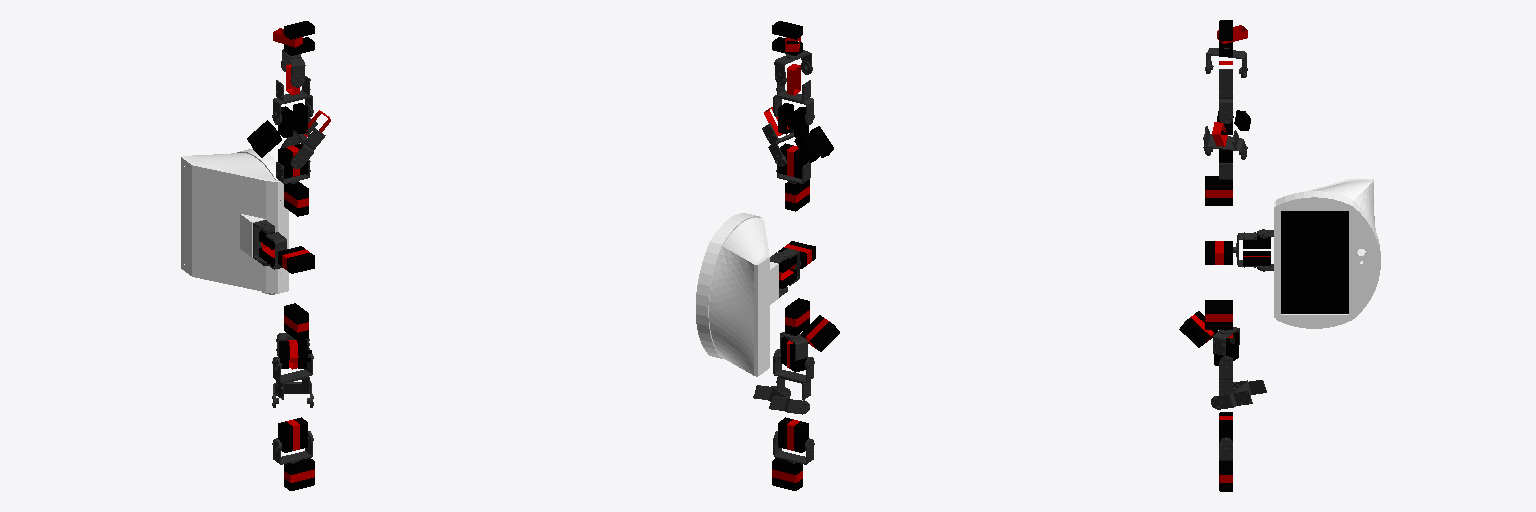
The robot description file, URDF, robot "bobot":
<robot name="bobot" version="1.0">
  <joint name="head_steel_link_joint" type="revolute">
    <limit lower="-0.80000" upper="0.80000" effort="0.00000" velocity="0.00000"/>
    <origin rpy="0.00000 0.00000 0.00000" xyz="0.00000 1.90250 -0.00500"/>
    <parent link="neck_plast_link"/>
    <child link="head_steel_link"/>
    <axis xyz="0.00000 0.00000 1.00000"/>
  </joint>
  <joint name="leftArm1_link_joint" type="revolute">
    <limit lower="-3.14000" upper="3.14000" effort="0.00000" velocity="0.00000"/>
    <origin rpy="0.00000 0.00000 0.00000" xyz="0.00000 17.49999 6.17249"/>
    <parent link="body0_plast_white_link"/>
    <child link="rightArm1_steel_link"/>
    <axis xyz="0.00000 0.00000 1.00000"/>
  </joint>
  <joint name="leftArm1_plast_link_joint" type="revolute">
    <limit lower="-3.14000" upper="3.14000" effort="0.00000" velocity="0.00000"/>
    <origin rpy="0.00000 0.00000 0.00000" xyz="-0.00000 17.49999 -6.17249"/>
    <parent link="body0_plast_white_link"/>
    <child link="leftArm1_plast_link"/>
    <axis xyz="0.00000 0.00000 1.00000"/>
  </joint>
  <joint name="leftArm2_plast_link_joint" type="revolute">
    <limit lower="-2.00000" upper="2.00000" effort="0.00000" velocity="0.00000"/>
    <origin rpy="0.00000 0.00000 0.00000" xyz="-0.00500 -0.00000 -1.87501"/>
    <parent link="leftArm1_plast_link"/>
    <child link="leftArm2_plast_link"/>
    <axis xyz="1.00000 0.00000 0.00000"/>
  </joint>
  <joint name="leftArm3_plast_link_joint" type="revolute">
    <limit lower="-2.00000" upper="2.00000" effort="0.00000" velocity="0.00000"/>
    <origin rpy="0.00000 0.00000 0.00000" xyz="0.00000 0.00000 -3.20000"/>
    <parent link="leftArm2_plast_link"/>
    <child link="leftArm3_plast_link"/>
    <axis xyz="1.00000 0.00000 0.00000"/>
  </joint>
  <joint name="leftArm4_link_joint" type="revolute">
    <limit lower="-2.00000" upper="2.00000" effort="0.00000" velocity="0.00000"/>
    <origin rpy="0.00000 0.00000 0.00000" xyz="-0.00000 -0.00000 -3.20000"/>
    <parent link="leftArm3_plast_link"/>
    <child link="leftArm4_link"/>
    <axis xyz="1.00000 0.00000 0.00000"/>
  </joint>
  <joint name="leftArm5_plast_link_joint" type="revolute">
    <limit lower="-3.14000" upper="3.14000" effort="0.00000" velocity="0.00000"/>
    <origin rpy="0.00000 0.00000 0.00000" xyz="0.00500 -0.00000 -1.32502"/>
    <parent link="leftArm4_link"/>
    <child link="leftArm5_plast_link"/>
    <axis xyz="0.00000 0.00000 1.00000"/>
  </joint>
  <joint name="neck_plast_link_joint" type="revolute">
    <limit lower="-1.00000" upper="1.00000" effort="0.00000" velocity="0.00000"/>
    <origin rpy="0.00000 0.00000 0.00000" xyz="-0.50000 18.26999 -0.00000"/>
    <parent link="body0_plast_white_link"/>
    <child link="neck_plast_link"/>
    <axis xyz="0.00000 1.00000 0.00000"/>
  </joint>
  <joint name="rightArm2_link_joint" type="revolute">
    <limit lower="-2.00000" upper="2.00000" effort="0.00000" velocity="0.00000"/>
    <origin rpy="0.00000 0.00000 0.00000" xyz="-0.00500 0.00000 1.87501"/>
    <parent link="rightArm1_steel_link"/>
    <child link="rightArm2_steel_link"/>
    <axis xyz="1.00000 0.00000 0.00000"/>
  </joint>
  <joint name="rightArm3_link_joint" type="revolute">
    <limit lower="-2.00000" upper="2.00000" effort="0.00000" velocity="0.00000"/>
    <origin rpy="0.00000 0.00000 0.00000" xyz="-0.00000 0.00000 3.20000"/>
    <parent link="rightArm2_steel_link"/>
    <child link="rightArm3_steel_link"/>
    <axis xyz="1.00000 0.00000 0.00000"/>
  </joint>
  <joint name="rightArm4_link_joint" type="revolute">
    <limit lower="-2.00000" upper="2.00000" effort="0.00000" velocity="0.00000"/>
    <origin rpy="0.00000 0.00000 0.00000" xyz="-0.00000 0.00000 3.19999"/>
    <parent link="rightArm3_steel_link"/>
    <child link="rightArm4_link"/>
    <axis xyz="1.00000 0.00000 0.00000"/>
  </joint>
  <joint name="rightArm5_plast_link_joint" type="revolute">
    <limit lower="-3.14000" upper="3.14000" effort="0.00000" velocity="0.00000"/>
    <origin rpy="0.00000 0.00000 0.00000" xyz="0.00500 0.00000 1.32502"/>
    <parent link="rightArm4_link"/>
    <child link="rightArm5_red_link"/>
    <axis xyz="0.00000 0.00000 1.00000"/>
  </joint>
  <link name="body0_plast_white_link">
    <visual name="body0_plast_white">
      <origin rpy="0.00000 0.00000 0.00000" xyz="0.00000 0.00000 0.00000"/>
      <material name="white"/>
      <geometry>
        <mesh filename="../meshes/stl/body_white.stl" scale="1.00000 1.00000 1.00000"/>
      </geometry>
    </visual>
    <visual name="body_plast">
      <origin rpy="0.00000 0.00000 0.00000" xyz="0.00000 0.00000 0.00000"/>
      <material name="black"/>
      <geometry>
        <mesh filename="../meshes/stl/body_black.stl" scale="1.00000 1.00000 1.00000"/>
      </geometry>
    </visual>
    <visual name="body_plast_red">
      <origin rpy="0.00000 0.00000 0.00000" xyz="0.00000 0.00000 0.00000"/>
      <material name="red"/>
      <geometry>
        <mesh filename="../meshes/stl/body_red.stl" scale="1.00000 1.00000 1.00000"/>
      </geometry>
    </visual>
  </link>
  <link name="head_steel_link">
    <collision name="head_collision">
      <origin rpy="0.00000 0.00000 0.00000" xyz="0.00000 4.61031 0.00500"/>
      <geometry>
        <box size="5.33500 8.36396 11.24074"/>
      </geometry>
    </collision>
    <visual name="head_plast">
      <origin rpy="0.00000 0.00000 0.00000" xyz="0.00000 1.32502 0.00500"/>
      <material name="whiteHead"/>
      <geometry>
        <mesh filename="../meshes/stl/head_white.stl" scale="1.00000 1.00000 1.00000"/>
      </geometry>
    </visual>
    <visual name="head_screen">
      <origin rpy="0.00000 0.00000 0.00000" xyz="0.00000 1.32502 0.00500"/>
      <material name="black"/>
      <geometry>
        <mesh filename="../meshes/stl/head_black.stl" scale="1.00000 1.00000 1.00000"/>
      </geometry>
    </visual>
    <visual name="head_steel">
      <origin rpy="0.00000 0.00000 0.00000" xyz="0.00000 0.00000 0.00000"/>
      <material name="steel"/>
      <geometry>
        <mesh filename="../meshes/stl/head_steel.stl" scale="1.00000 1.00000 1.00000"/>
      </geometry>
    </visual>
  </link>
  <link name="leftArm1_plast_link">
    <visual name="leftArm1_plast">
      <origin rpy="0.00000 0.00000 0.00000" xyz="0.00000 0.00000 0.00000"/>
      <material name="black"/>
      <geometry>
        <mesh filename="../meshes/stl/LAP1.stl" scale="1.00000 1.00000 1.00000"/>
      </geometry>
    </visual>
    <visual name="leftArm1_red">
      <origin rpy="0.00000 0.00000 0.00000" xyz="0.00000 -0.00000 0.00000"/>
      <material name="red"/>
      <geometry>
        <mesh filename="../meshes/stl/LAR1.stl" scale="1.00000 1.00000 1.00000"/>
      </geometry>
    </visual>
    <visual name="leftArm1_steel">
      <origin rpy="0.00000 0.00000 0.00000" xyz="0.00000 -0.00000 0.00000"/>
      <material name="steel"/>
      <geometry>
        <mesh filename="../meshes/stl/LAS1.stl" scale="1.00000 1.00000 1.00000"/>
      </geometry>
    </visual>
  </link>
  <link name="leftArm2_plast_link">
    <visual name="leftArm2_plast">
      <origin rpy="0.00000 0.00000 0.00000" xyz="0.00000 0.00000 0.00000"/>
      <material name="black"/>
      <geometry>
        <mesh filename="../meshes/stl/LAP2.stl" scale="1.00000 1.00000 1.00000"/>
      </geometry>
    </visual>
    <visual name="leftArm2_red">
      <origin rpy="0.00000 0.00000 0.00000" xyz="0.00000 0.00000 0.00000"/>
      <material name="red"/>
      <geometry>
        <mesh filename="../meshes/stl/LAR2.stl" scale="1.00000 1.00000 1.00000"/>
      </geometry>
    </visual>
    <visual name="leftArm2_steel">
      <origin rpy="0.00000 0.00000 0.00000" xyz="0.00000 0.00000 0.00000"/>
      <material name="steel"/>
      <geometry>
        <mesh filename="../meshes/stl/LAS2.stl" scale="1.00000 1.00000 1.00000"/>
      </geometry>
    </visual>
  </link>
  <link name="leftArm3_plast_link">
    <visual name="leftArm3_plast">
      <origin rpy="0.00000 0.00000 0.00000" xyz="-0.00000 0.00000 0.00000"/>
      <material name="black"/>
      <geometry>
        <mesh filename="../meshes/stl/LAP3.stl" scale="1.00000 1.00000 1.00000"/>
      </geometry>
    </visual>
    <visual name="leftArm3_red">
      <origin rpy="0.00000 0.00000 0.00000" xyz="-0.00000 -0.00000 0.00000"/>
      <material name="red"/>
      <geometry>
        <mesh filename="../meshes/stl/LAR3.stl" scale="1.00000 1.00000 1.00000"/>
      </geometry>
    </visual>
    <visual name="leftArm3_steel">
      <origin rpy="0.00000 0.00000 0.00000" xyz="-0.00000 -0.00000 0.00000"/>
      <material name="steel"/>
      <geometry>
        <mesh filename="../meshes/stl/LAS3.stl" scale="1.00000 1.00000 1.00000"/>
      </geometry>
    </visual>
  </link>
  <link name="leftArm4_link">
    <visual name="leftArm4">
      <origin rpy="0.00000 0.00000 0.00000" xyz="0.00000 0.00000 0.00000"/>
      <material name="steel"/>
      <geometry>
        <mesh filename="../meshes/stl/LAS4.stl" scale="1.00000 1.00000 1.00000"/>
      </geometry>
    </visual>
  </link>
  <link name="leftArm5_plast_link">
    <collision name="leftArm5_plast_collision">
      <origin rpy="0.00000 0.00000 0.00000" xyz="0.50000 0.00000 -1.16249"/>
      <geometry>
        <box size="2.00002 1.00000 2.27000"/>
      </geometry>
    </collision>
    <visual name="leftArm5_plast">
      <origin rpy="0.00000 0.00000 0.00000" xyz="-0.00000 0.00000 0.00000"/>
      <material name="blackLa"/>
      <geometry>
        <mesh filename="../meshes/stl/LAP5.stl" scale="1.00000 1.00000 1.00000"/>
      </geometry>
    </visual>
    <visual name="leftArm5_red">
      <origin rpy="0.00000 0.00000 0.00000" xyz="-0.00000 0.00000 0.00000"/>
      <material name="red"/>
      <geometry>
        <mesh filename="../meshes/stl/LAR5.stl" scale="1.00000 1.00000 1.00000"/>
      </geometry>
    </visual>
  </link>
  <link name="neck_plast_link">
    <visual name="neck_plast">
      <origin rpy="0.00000 0.00000 0.00000" xyz="0.00000 0.00000 0.00000"/>
      <material name="black"/>
      <geometry>
        <mesh filename="../meshes/stl/NP.stl" scale="1.00000 1.00000 1.00000"/>
      </geometry>
    </visual>
    <visual name="neck_red">
      <origin rpy="0.00000 0.00000 0.00000" xyz="0.00000 0.00000 0.00000"/>
      <material name="red"/>
      <geometry>
        <mesh filename="../meshes/stl/NR.stl" scale="1.00000 1.00000 1.00000"/>
      </geometry>
    </visual>
    <visual name="neck_steel">
      <origin rpy="0.00000 0.00000 0.00000" xyz="0.00000 0.00000 0.00000"/>
      <material name="steel"/>
      <geometry>
        <mesh filename="../meshes/stl/NS.stl" scale="1.00000 1.00000 1.00000"/>
      </geometry>
    </visual>
  </link>
  <link name="rightArm1_steel_link">
    <visual name="rightArm1_plast">
      <origin rpy="0.00000 0.00000 0.00000" xyz="0.00000 0.00000 0.00000"/>
      <material name="black"/>
      <geometry>
        <mesh filename="../meshes/stl/RAP1.stl" scale="1.00000 1.00000 1.00000"/>
      </geometry>
    </visual>
    <visual name="rightArm1_red">
      <origin rpy="0.00000 0.00000 0.00000" xyz="0.00000 0.00000 0.00000"/>
      <material name="red"/>
      <geometry>
        <mesh filename="../meshes/stl/RAR1.stl" scale="1.00000 1.00000 1.00000"/>
      </geometry>
    </visual>
    <visual name="rightArm1_steel">
      <origin rpy="0.00000 0.00000 0.00000" xyz="0.00000 0.00000 0.00000"/>
      <material name="steel"/>
      <geometry>
        <mesh filename="../meshes/stl/RAS1.stl" scale="1.00000 1.00000 1.00000"/>
      </geometry>
    </visual>
  </link>
  <link name="rightArm2_steel_link">
    <visual name="rightArm2_plast">
      <origin rpy="0.00000 0.00000 0.00000" xyz="0.00000 0.00000 0.00000"/>
      <material name="black"/>
      <geometry>
        <mesh filename="../meshes/stl/RAP2.stl" scale="1.00000 1.00000 1.00000"/>
      </geometry>
    </visual>
    <visual name="rightArm2_red">
      <origin rpy="0.00000 0.00000 0.00000" xyz="0.00000 0.00000 0.00000"/>
      <material name="red"/>
      <geometry>
        <mesh filename="../meshes/stl/RAR2.stl" scale="1.00000 1.00000 1.00000"/>
      </geometry>
    </visual>
    <visual name="rightArm2_steel">
      <origin rpy="0.00000 0.00000 0.00000" xyz="0.00000 0.00000 0.00000"/>
      <material name="steel"/>
      <geometry>
        <mesh filename="../meshes/stl/RAS2.stl" scale="1.00000 1.00000 1.00000"/>
      </geometry>
    </visual>
  </link>
  <link name="rightArm3_steel_link">
    <visual name="rightArm3_plast">
      <origin rpy="0.00000 0.00000 0.00000" xyz="-0.00000 0.00000 0.00000"/>
      <material name="black"/>
      <geometry>
        <mesh filename="../meshes/stl/RAP3.stl" scale="1.00000 1.00000 1.00000"/>
      </geometry>
    </visual>
    <visual name="rightArm3_red">
      <origin rpy="0.00000 0.00000 0.00000" xyz="-0.00000 0.00000 0.00000"/>
      <material name="red"/>
      <geometry>
        <mesh filename="../meshes/stl/RAR3.stl" scale="1.00000 1.00000 1.00000"/>
      </geometry>
    </visual>
    <visual name="rightArm3_steel">
      <origin rpy="0.00000 0.00000 0.00000" xyz="-0.00000 0.00000 0.00000"/>
      <material name="steel"/>
      <geometry>
        <mesh filename="../meshes/stl/RAS3.stl" scale="1.00000 1.00000 1.00000"/>
      </geometry>
    </visual>
  </link>
  <link name="rightArm4_link">
    <visual name="rightArm4">
      <origin rpy="0.00000 0.00000 0.00000" xyz="0.00000 0.00000 0.00000"/>
      <material name="steel"/>
      <geometry>
        <mesh filename="../meshes/stl/RAS4.stl" scale="1.00000 1.00000 1.00000"/>
      </geometry>
    </visual>
  </link>
  <link name="rightArm5_red_link">
    <collision name="rightArm5_plast_collision">
      <origin rpy="0.00000 0.00000 0.00000" xyz="0.29650 -0.00000 1.45934"/>
      <geometry>
        <box size="2.40701 1.08017 2.52897"/>
      </geometry>
    </collision>
    <visual name="rightArm5_plast">
      <origin rpy="0.00000 0.00000 0.00000" xyz="0.00000 0.00000 0.00000"/>
      <material name="blackRarm"/>
      <geometry>
        <mesh filename="../meshes/stl/RAP5.stl" scale="1.00000 1.00000 1.00000"/>
      </geometry>
    </visual>
    <visual name="rightArm5_red">
      <origin rpy="0.00000 0.00000 0.00000" xyz="0.00000 0.00000 0.00000"/>
      <material name="red"/>
      <geometry>
        <mesh filename="../meshes/stl/RAR5.stl" scale="1.00000 1.00000 1.00000"/>
      </geometry>
    </visual>
  </link>
  <material name="black">
    <color rgba="0.01569 0.01569 0.01569 1.00000"/>
  </material>
  <material name="blackLa">
    <color rgba="0.01569 0.01569 0.01569 1.00000"/>
  </material>
  <material name="blackRarm">
    <color rgba="0.01569 0.01569 0.01569 1.00000"/>
  </material>
  <material name="red">
    <color rgba="0.80000 0.00000 0.00000 1.00000"/>
  </material>
  <material name="steel">
    <color rgba="0.21569 0.21569 0.21569 1.00000"/>
  </material>
  <material name="white">
    <color rgba="1.00000 1.00000 1.00000 1.00000"/>
  </material>
  <material name="whiteHead">
    <color rgba="1.00000 1.00000 1.00000 1.00000"/>
  </material>
</robot>

--- Facts derived from the render (not from the file) ---
Views: 3 orthographic renders of the robot side by side, from view 1: azimuth 30°, elevation 25°; view 2: azimuth 150°, elevation 25°; view 3: azimuth 270°, elevation 25°.
Model bobot with 13 links and 12 joints (12 revolute), rooted at body0_plast_white_link, posed every joint at zero.
Links seen in each view (by area): view 1: head_steel_link, body0_plast_white_link, rightArm2_steel_link, rightArm3_steel_link, leftArm2_plast_link, leftArm3_plast_link, rightArm5_red_link, rightArm1_steel_link, leftArm5_plast_link, neck_plast_link, leftArm4_link, rightArm4_link; view 2: head_steel_link, rightArm3_steel_link, body0_plast_white_link, leftArm3_plast_link, leftArm2_plast_link, rightArm2_steel_link, rightArm1_steel_link, leftArm1_plast_link, rightArm5_red_link, leftArm5_plast_link, neck_plast_link, rightArm4_link (+1 smaller); view 3: head_steel_link, body0_plast_white_link, leftArm3_plast_link, leftArm2_plast_link, rightArm3_steel_link, rightArm2_steel_link, neck_plast_link, leftArm1_plast_link, rightArm5_red_link.
Link boxes in pixels (bbox=[...]): head_steel_link: bbox=[181, 149, 288, 294]; body0_plast_white_link: bbox=[278, 182, 314, 340]; rightArm2_steel_link: bbox=[278, 103, 330, 168]; rightArm3_steel_link: bbox=[247, 64, 313, 157]; leftArm2_plast_link: bbox=[272, 344, 313, 399]; leftArm3_plast_link: bbox=[272, 382, 313, 452]; rightArm5_red_link: bbox=[273, 21, 314, 55]; rightArm1_steel_link: bbox=[276, 143, 310, 183]; leftArm5_plast_link: bbox=[284, 458, 314, 490]; neck_plast_link: bbox=[259, 231, 286, 269]; leftArm4_link: bbox=[272, 431, 313, 464]; rightArm4_link: bbox=[281, 49, 305, 87]; head_steel_link: bbox=[696, 213, 787, 376]; rightArm3_steel_link: bbox=[773, 64, 833, 162]; body0_plast_white_link: bbox=[778, 179, 815, 335]; leftArm3_plast_link: bbox=[753, 385, 809, 452]; leftArm2_plast_link: bbox=[773, 315, 839, 399]; rightArm2_steel_link: bbox=[762, 103, 808, 166]; rightArm1_steel_link: bbox=[776, 143, 810, 183]; leftArm1_plast_link: bbox=[780, 332, 807, 372]; rightArm5_red_link: bbox=[772, 21, 802, 55]; leftArm5_plast_link: bbox=[772, 458, 802, 490]; neck_plast_link: bbox=[779, 248, 800, 288]; rightArm4_link: bbox=[774, 50, 812, 85]; head_steel_link: bbox=[1257, 179, 1380, 328]; body0_plast_white_link: bbox=[1205, 176, 1232, 329]; leftArm3_plast_link: bbox=[1211, 380, 1266, 441]; leftArm2_plast_link: bbox=[1179, 311, 1232, 395]; rightArm3_steel_link: bbox=[1217, 61, 1250, 130]; rightArm2_steel_link: bbox=[1203, 120, 1247, 159]; neck_plast_link: bbox=[1233, 232, 1270, 267]; leftArm1_plast_link: bbox=[1213, 327, 1239, 365]; rightArm5_red_link: bbox=[1217, 20, 1247, 56].
Size in the robot's own frame: 6.01 by 14.35 by 36.14 metres.
32 mesh visuals loaded from 33 distinct referenced files (32 binary STL); not drawn: 1 (reference not matched to a file when rendering).